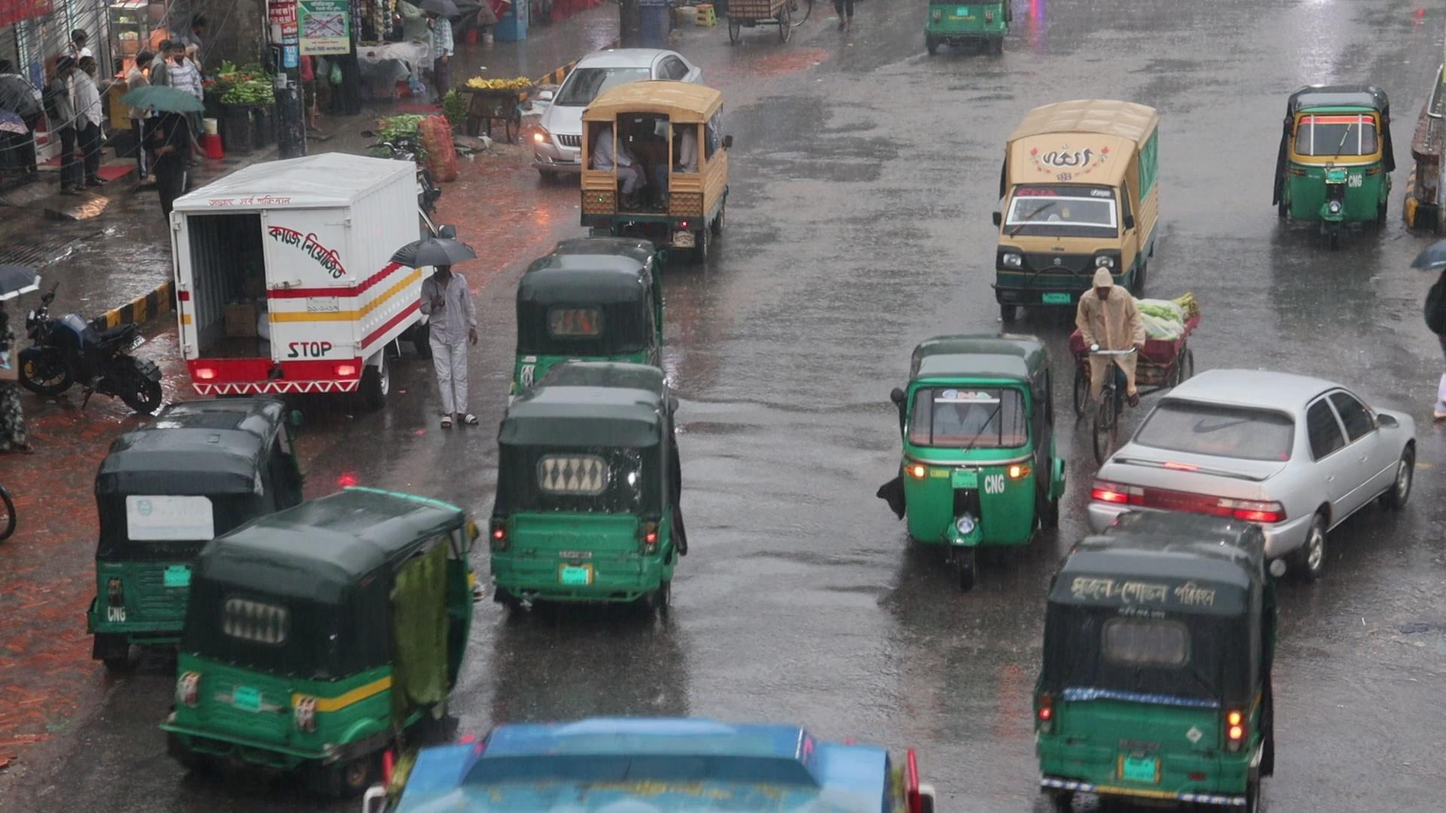Car: (1083, 361, 1441, 596)
Truck: (988, 93, 1168, 325), (572, 76, 733, 270)
